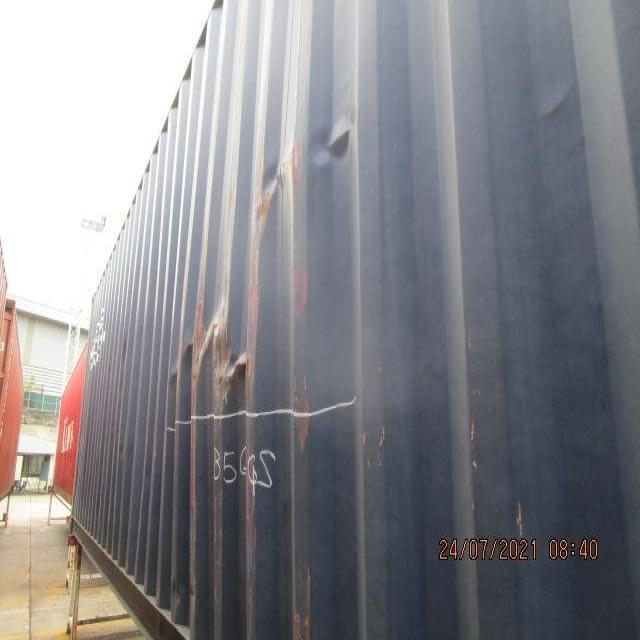dent: (154, 250, 367, 436), (233, 109, 363, 221)
